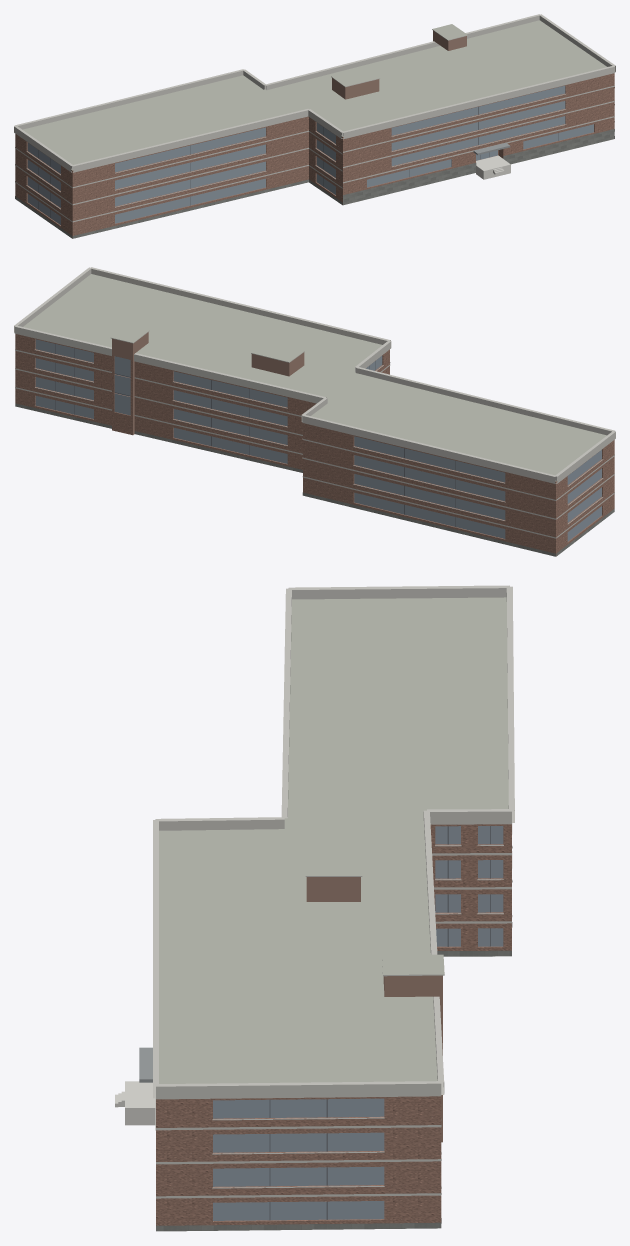
3 renders of one model, top to bottom at view 1: azimuth 30°, elevation 25°; view 2: azimuth 150°, elevation 25°; view 3: azimuth 270°, elevation 25°, orthographic. The views are drawn at different scales.
Visible parts, largest first — view 1: b68__roof, b68__wall, b68__glass, b68__trim, b68__base, b68__wall2, b68__entranceStair; view 2: b68__roof, b68__wall, b68__glass, b68__trim, b68__base, b68__wall2; view 3: b68__roof, b68__wall, b68__trim, b68__glass, b68__wall2, b68__base, b68__entranceStair.
Boxes of the visible parts, x1,y1,x2,y2 form: b68__roof: (23, 20, 606, 202); b68__wall: (15, 73, 614, 238); b68__glass: (27, 85, 593, 224); b68__trim: (14, 14, 615, 222); b68__base: (15, 129, 614, 238); b68__wall2: (332, 30, 466, 99); b68__entranceStair: (476, 155, 510, 179); b68__roof: (23, 274, 606, 481); b68__wall: (15, 334, 614, 556); b68__glass: (35, 339, 601, 541); b68__trim: (14, 267, 615, 538); b68__base: (15, 403, 614, 556); b68__wall2: (112, 332, 304, 434); b68__roof: (159, 597, 508, 1231); b68__wall: (156, 824, 511, 1225); b68__trim: (153, 585, 514, 1198); b68__glass: (213, 826, 503, 1220); b68__wall2: (306, 877, 442, 1142); b68__base: (156, 922, 512, 1231); b68__entranceStair: (115, 1081, 155, 1125).
Bounding box in the file's own units: 113 × 18.09 × 38.25.
10 materials, 2 textured.
